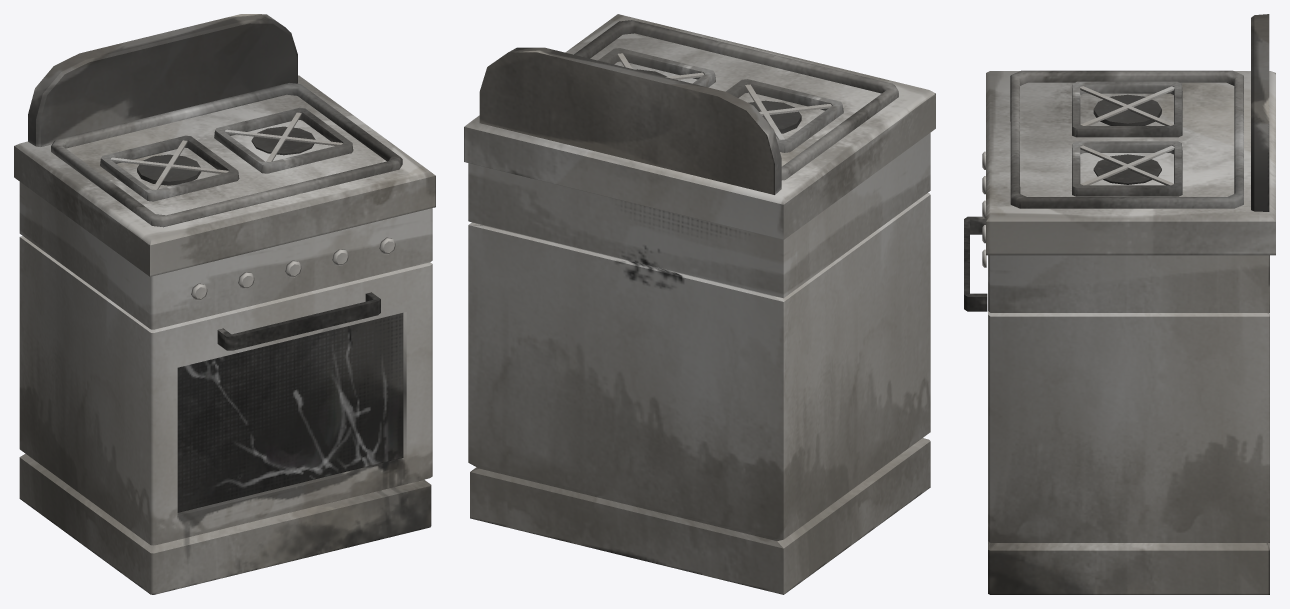
File: Stove_Asset.fbx
3 views of the same model, side by side, from view 1: azimuth 30°, elevation 25°; view 2: azimuth 150°, elevation 25°; view 3: azimuth 270°, elevation 25° (orthographic). The views are drawn at different scales.
Visible parts, largest first — view 1: Stove; view 2: Stove; view 3: Stove.
Boxes of the visible parts, x1,y1,x2,y2 form: Stove: [14, 14, 435, 594]; Stove: [464, 14, 935, 594]; Stove: [964, 14, 1275, 594].
Bounding box in the file's own units: 71.91 × 63.72 × 104.
Materials: 1 (1 with a texture image).
